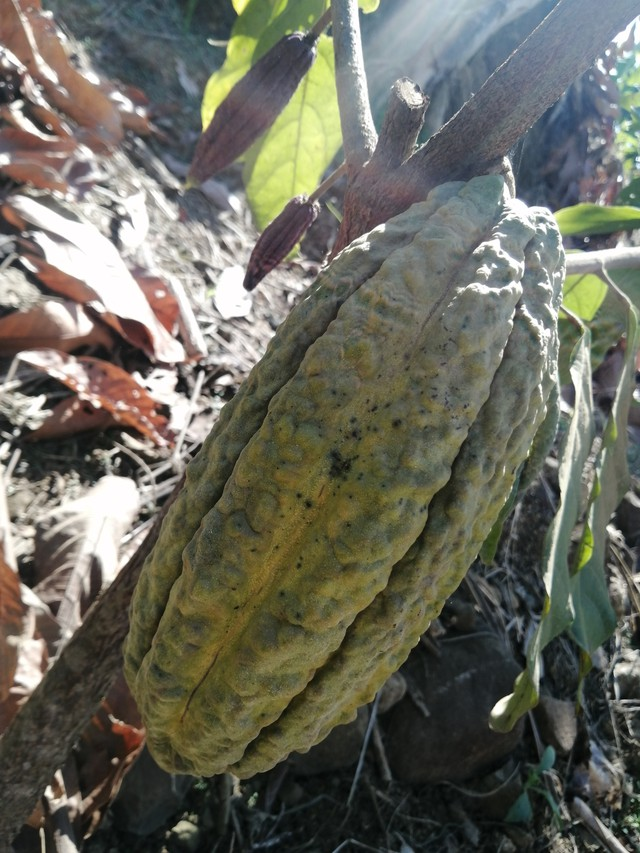Health: (107, 152, 581, 794)
